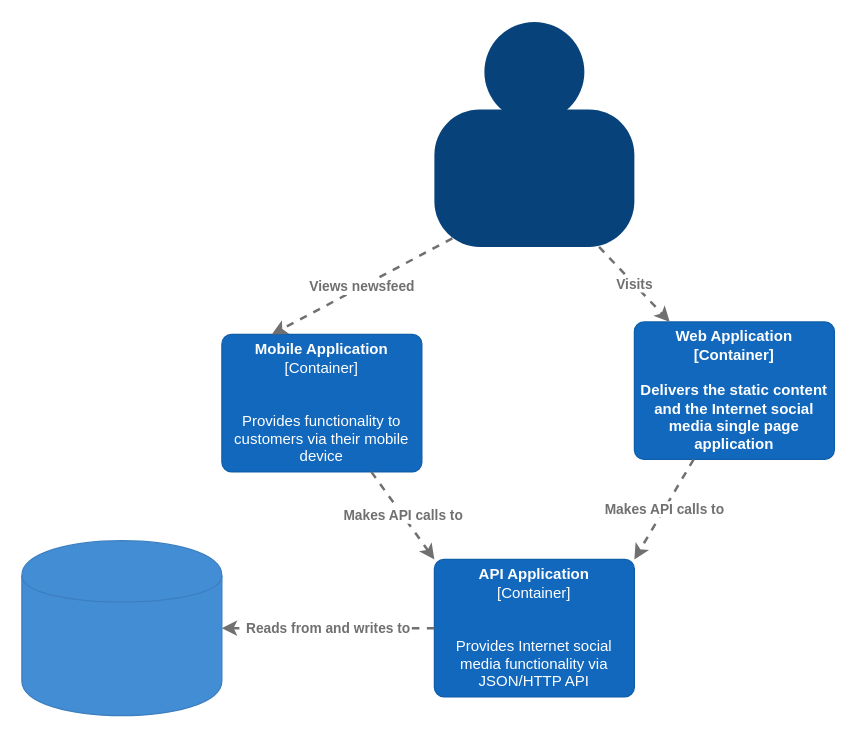
The diagram is 856 pixels wide and 738 high, and some of its shapes have lost their labels. The box of each missing label's shape, as (x1, y1, x2, y2) in pixels:
Client [Person]: (433, 108, 634, 247)
Database [Container: technology] Stores messages and status of each account: (21, 539, 222, 716)
